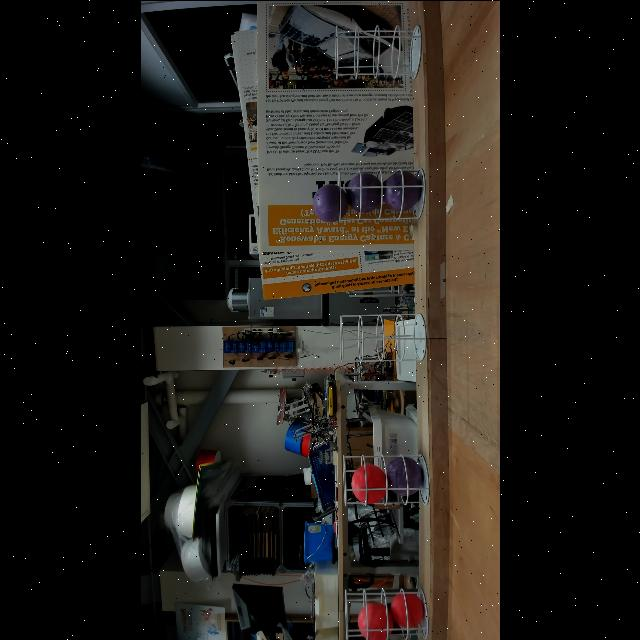P: (382, 169, 422, 211), (385, 454, 423, 496), (345, 172, 383, 212), (312, 182, 348, 222)
R: (350, 462, 388, 503), (356, 600, 394, 640), (390, 590, 424, 628)
S: (336, 166, 426, 222), (334, 23, 422, 79), (341, 452, 431, 506), (343, 586, 429, 640), (338, 312, 428, 362)
